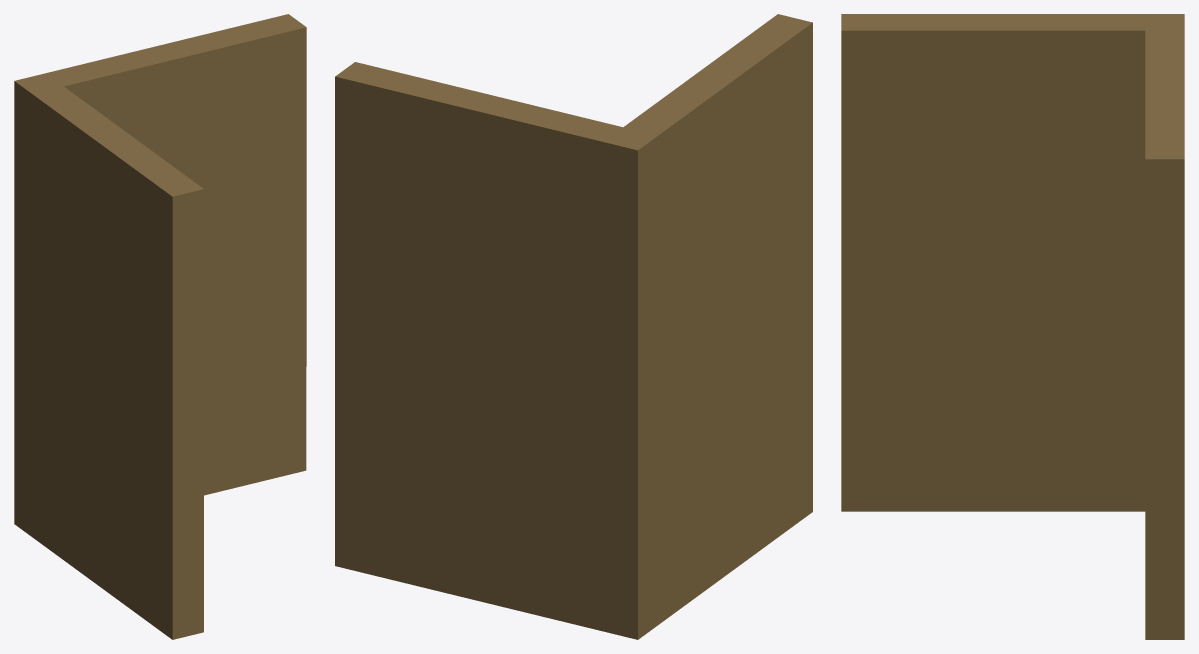
The model's file is Itr_Desk_Back2_01.FBX.
3 renders of one model, left to right at view 1: azimuth 30°, elevation 25°; view 2: azimuth 150°, elevation 25°; view 3: azimuth 270°, elevation 25°, orthographic. The views are drawn at different scales.
Visible parts, largest first — view 1: Itr_Desk_Back2_01; view 2: Itr_Desk_Back2_01; view 3: Itr_Desk_Back2_01.
Part boxes in pixels (x1,y1,x2,y2): Itr_Desk_Back2_01: [14, 14, 306, 639]; Itr_Desk_Back2_01: [335, 14, 812, 639]; Itr_Desk_Back2_01: [841, 14, 1184, 639].
Bounding box in the file's own units: 17.79 × 27.48 × 17.79.
